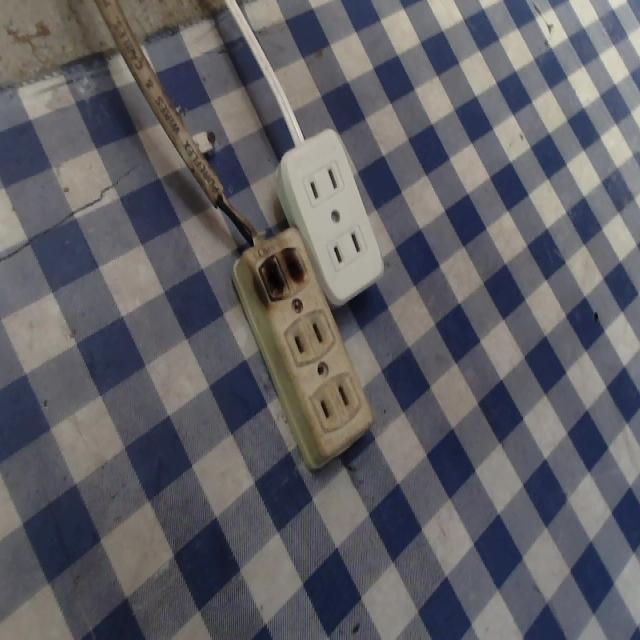-: (249, 235, 316, 308)
